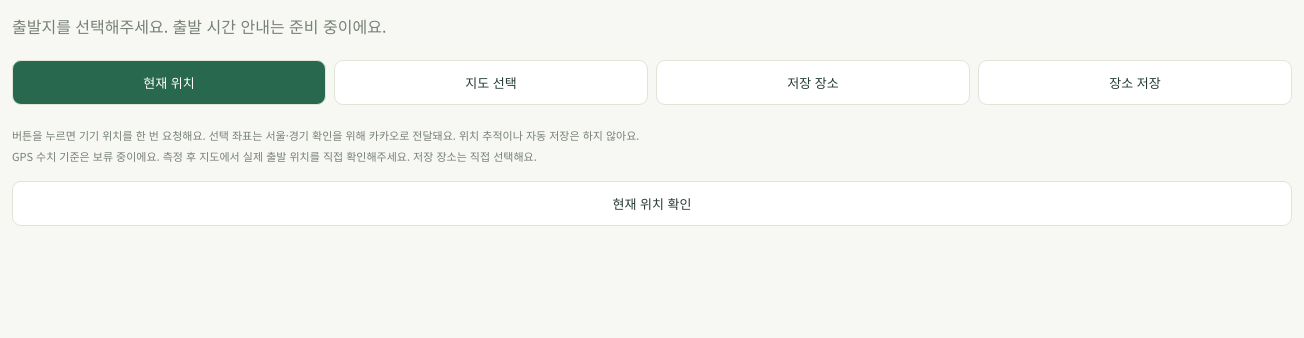
Test: saved place selection sends physical version; conflict requires fresh list
Expected: the button "현재 위치 확인" is enabled, [12,181,1292,226]
Step 1. Click the button "저장 장소" → (813, 82), box [656,60,970,105]
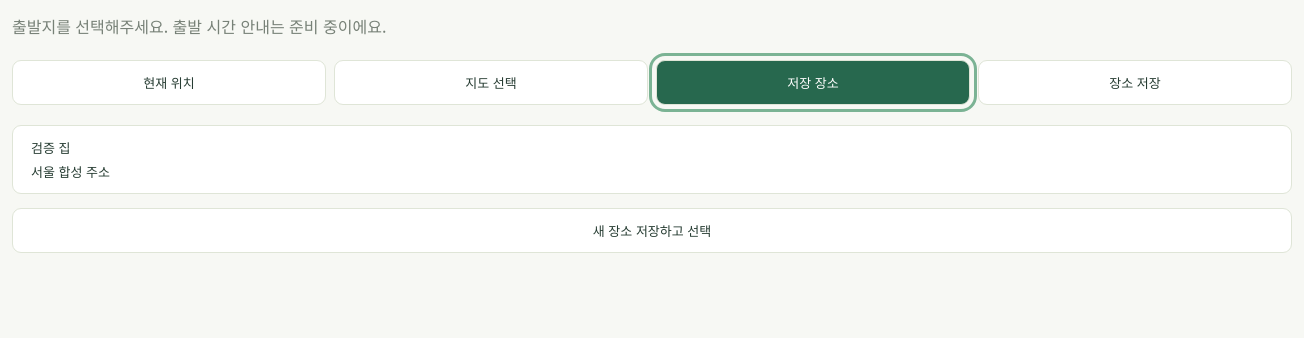
Step 2. Click the button "검증 집 서울 합성 주소" → (51, 148), box [12,125,1292,194]
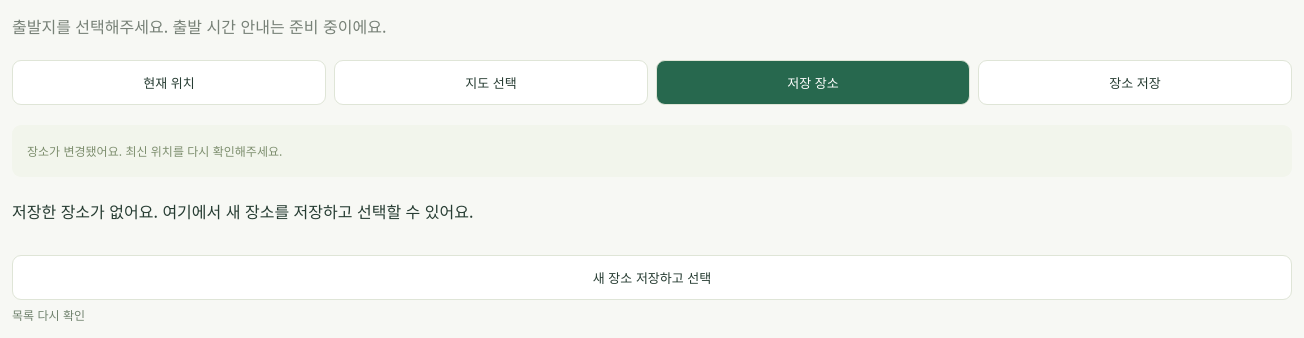
Result: the message "장소가 변경됐어요. 최신 위치를 다시 확인해주세요." is shown at [12,125,1292,177]
Result: the button "검증 집" is gone
